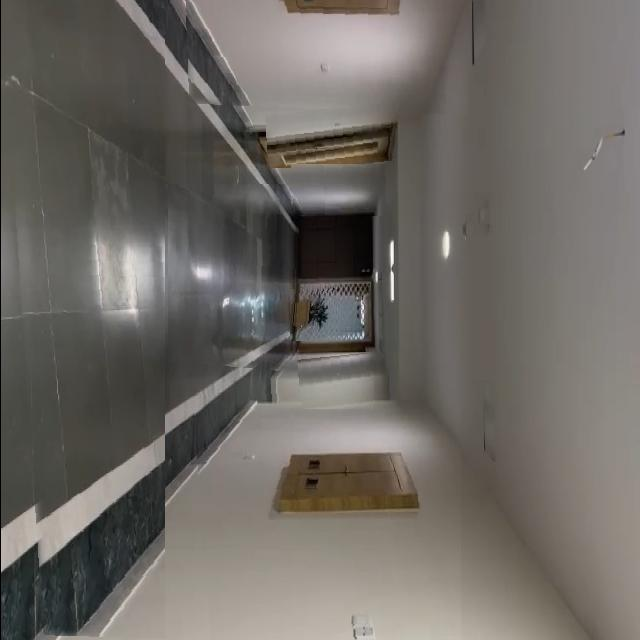door: (264, 102, 394, 168)
floor: (0, 0, 164, 640), (167, 185, 297, 372)
furniture: (289, 284, 338, 341)
wall: (191, 387, 460, 640), (184, 0, 468, 116), (290, 164, 390, 216), (296, 352, 373, 409)
